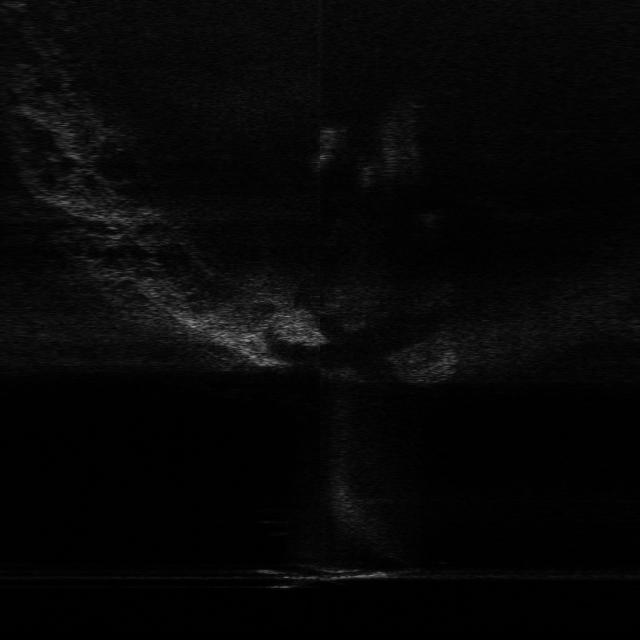plane: (248, 562, 422, 592)
